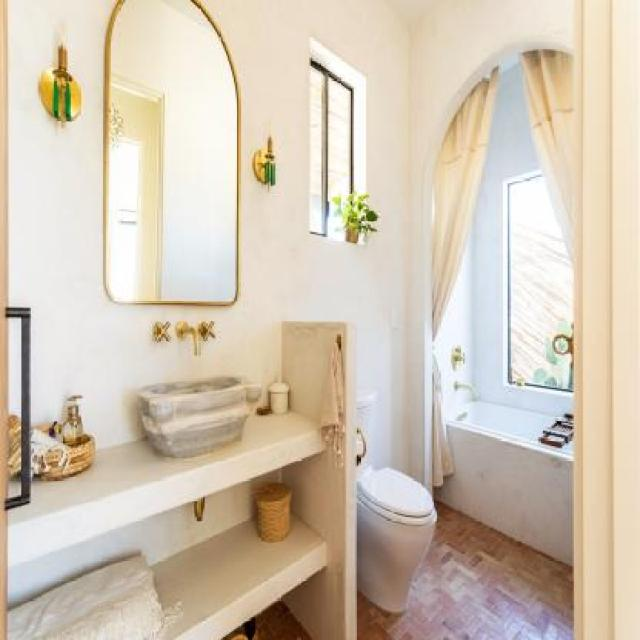floor: (360, 493, 573, 640)
